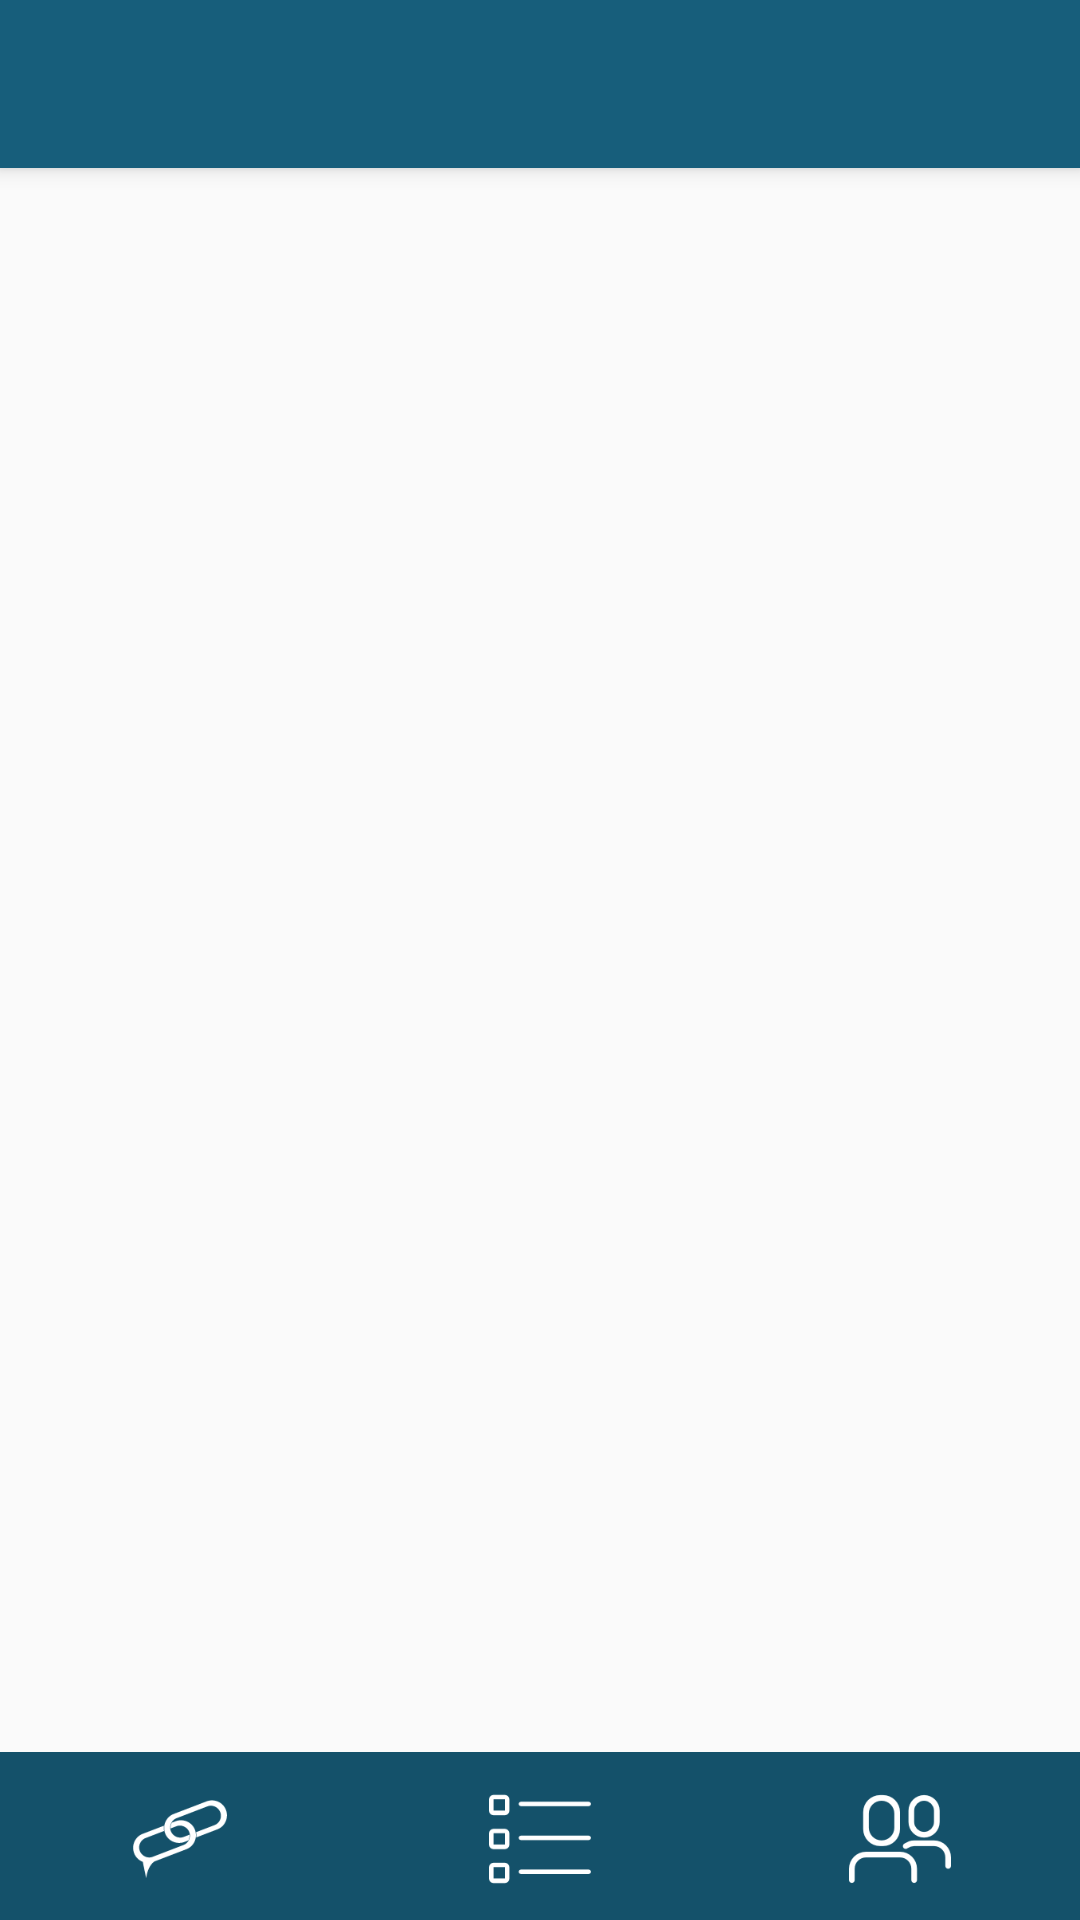

Named icons in this screenshot (1080*1920) and their centers, point (x, y):
contacts: point (900, 1839)
feeds: point (540, 1839)
